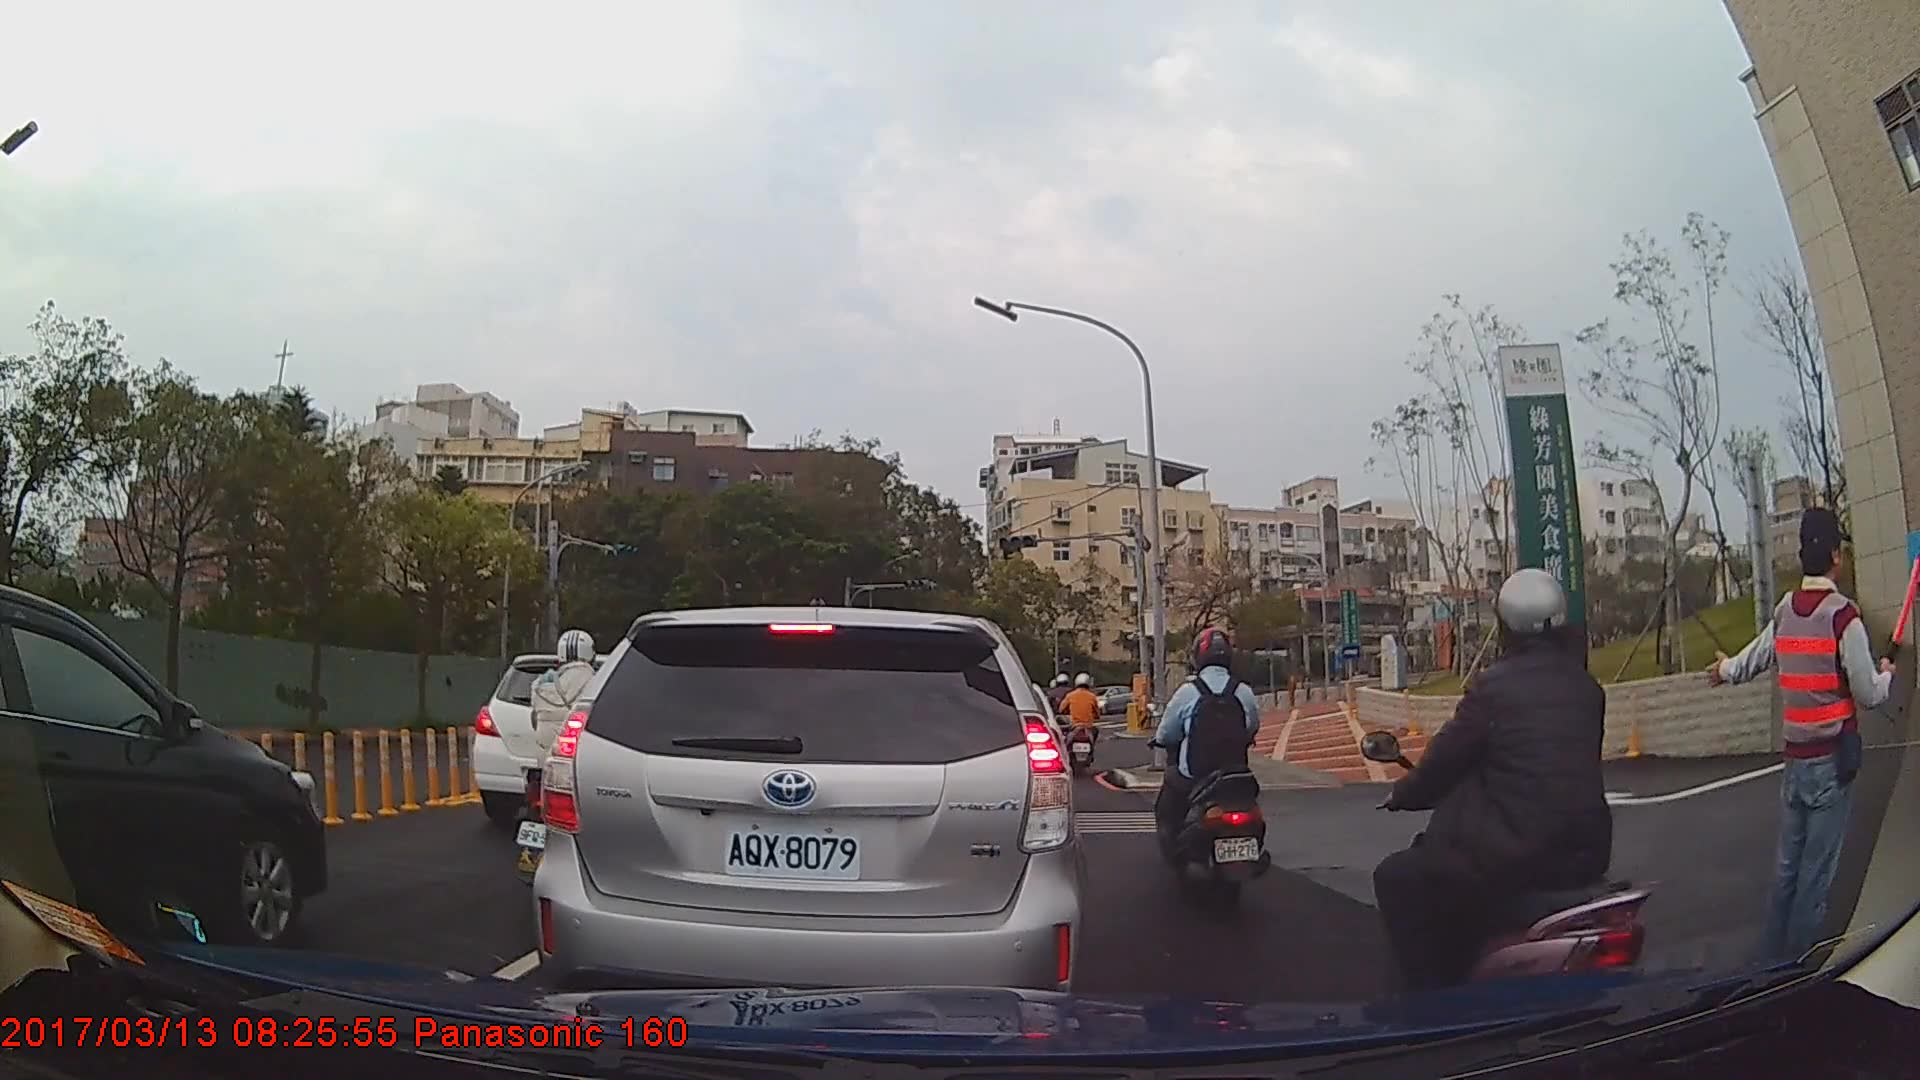pedestrian: (1706, 505, 1897, 1000)
rider: (1363, 570, 1647, 1049), (1148, 628, 1263, 917), (1061, 671, 1103, 768)
vehicle: (531, 604, 1087, 1016), (0, 579, 325, 963)
